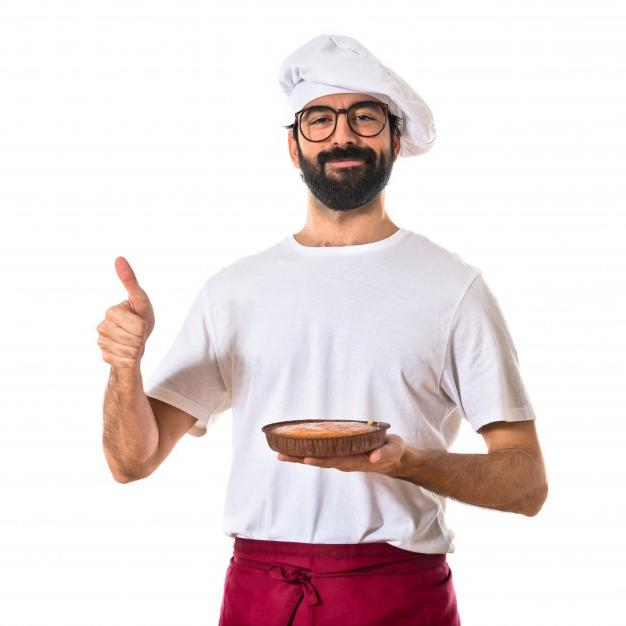thumbsup: (96, 256, 150, 367)
